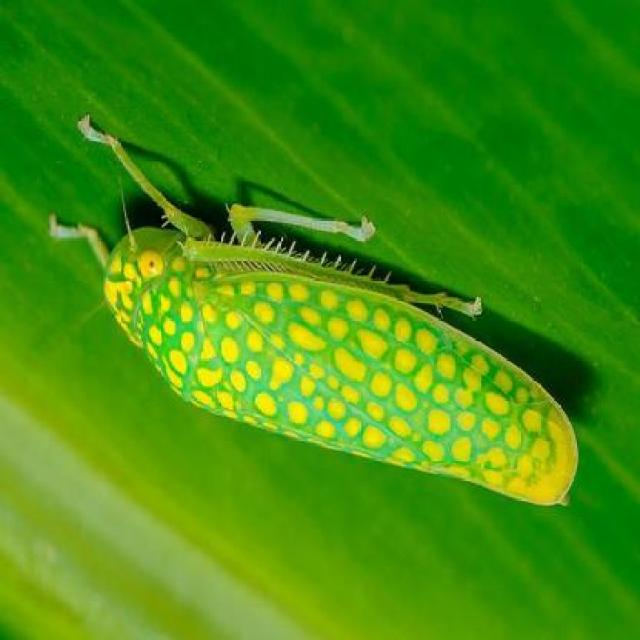green-leafhopper: (75, 191, 577, 512)
